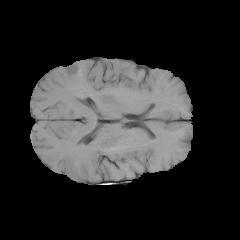glioma: (54, 61, 83, 85)
